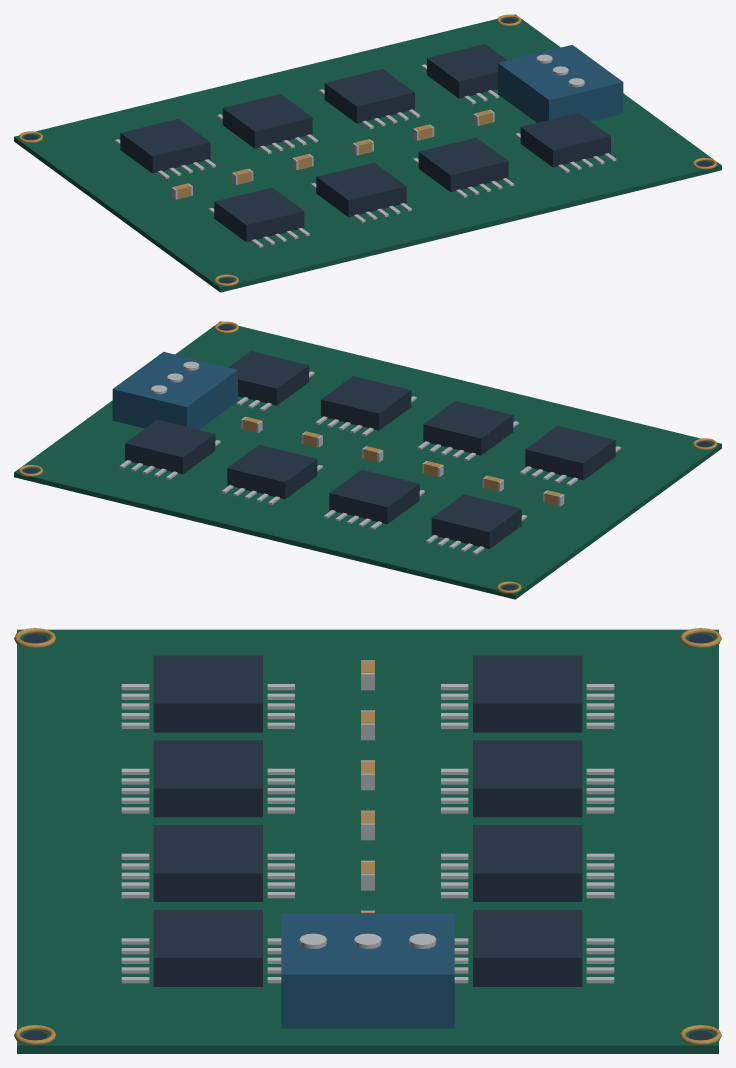
The model's file is pcb.glb.
The picture shows the model from 3 angles, top to bottom: view 1: azimuth 30°, elevation 25°; view 2: azimuth 150°, elevation 25°; view 3: azimuth 270°, elevation 25°; orthographic projection. The views are drawn at different scales.
Parts seen in each view (by area): view 1: FR4Board, TerminalBody, IC_0_0, IC_0_2, IC_1_1, IC_1_3, IC_0_1, IC_1_0, IC_1_2, IC_0_3; view 2: FR4Board, TerminalBody, IC_1_0, IC_0_1, IC_0_3, IC_1_2, IC_0_0, IC_1_1, IC_0_2, IC_1_3; view 3: FR4Board, TerminalBody, IC_0_0, IC_0_1, IC_1_0, IC_1_1, IC_0_2, IC_0_3, IC_1_2, IC_1_3.
Part boxes in pixels (<box>): FR4Board: <box>14,14,721,292</box>; TerminalBody: <box>498,44,623,122</box>; IC_0_0: <box>120,119,210,173</box>; IC_0_2: <box>324,69,414,123</box>; IC_1_1: <box>316,162,406,217</box>; IC_1_3: <box>520,112,610,167</box>; IC_0_1: <box>222,94,312,148</box>; IC_1_0: <box>214,187,304,241</box>; IC_1_2: <box>418,137,508,192</box>; IC_0_3: <box>427,44,506,98</box>; FR4Board: <box>14,321,721,599</box>; TerminalBody: <box>112,351,237,429</box>; IC_1_0: <box>525,426,615,480</box>; IC_0_1: <box>329,469,419,524</box>; IC_0_3: <box>125,419,215,474</box>; IC_1_2: <box>321,376,411,430</box>; IC_0_0: <box>431,494,521,548</box>; IC_1_1: <box>423,401,513,455</box>; IC_0_2: <box>227,444,317,499</box>; IC_1_3: <box>229,351,308,405</box>; FR4Board: <box>17,629,718,1053</box>; TerminalBody: <box>281,913,454,1028</box>; IC_0_0: <box>473,655,582,732</box>; IC_0_1: <box>473,740,582,817</box>; IC_1_0: <box>153,655,262,732</box>; IC_1_1: <box>153,740,262,817</box>; IC_0_2: <box>473,825,582,901</box>; IC_0_3: <box>473,910,582,986</box>; IC_1_2: <box>153,825,262,901</box>; IC_1_3: <box>153,910,262,986</box>.
Bounding box in the file's own units: 0.216 × 0.0161 × 0.1553.
